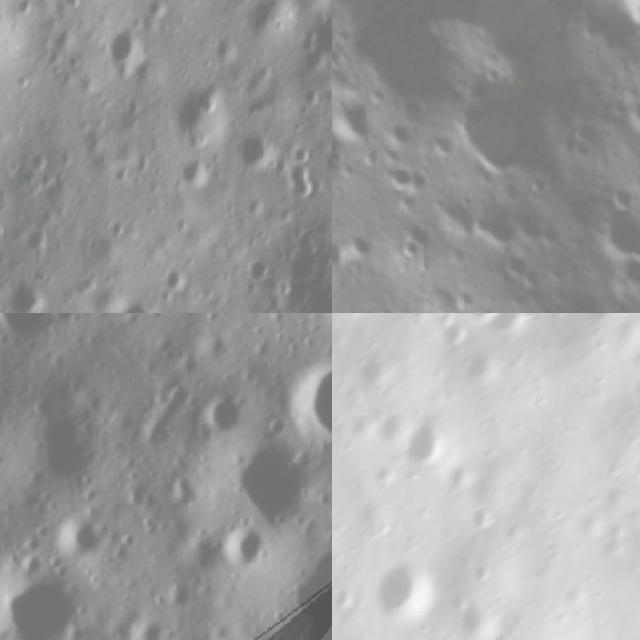crater: (430, 67, 584, 208), (0, 367, 127, 498), (210, 416, 332, 547), (0, 552, 105, 640), (279, 325, 332, 479), (48, 496, 124, 574), (367, 549, 440, 622), (208, 511, 282, 583), (589, 191, 640, 280), (168, 75, 228, 147), (198, 377, 260, 440), (396, 408, 457, 469), (97, 21, 153, 85), (332, 84, 380, 156), (178, 600, 259, 640), (0, 313, 70, 352), (291, 9, 332, 73), (235, 127, 283, 173), (454, 594, 501, 640), (0, 267, 46, 313), (378, 155, 420, 198), (96, 293, 176, 313), (467, 497, 503, 539), (616, 83, 640, 142), (572, 313, 626, 329), (492, 313, 537, 332), (455, 313, 503, 324)
